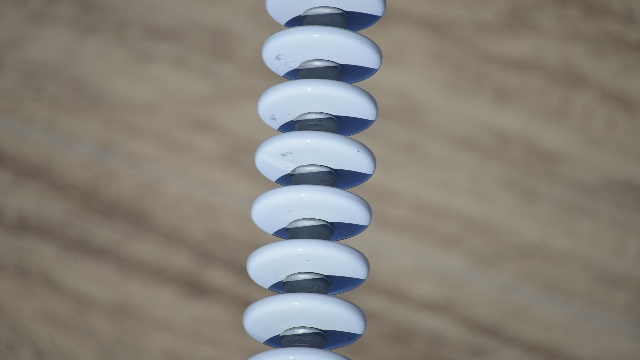insulator_unspecified: (243, 2, 389, 359)
pollution_flashover_local: (259, 150, 297, 175)
